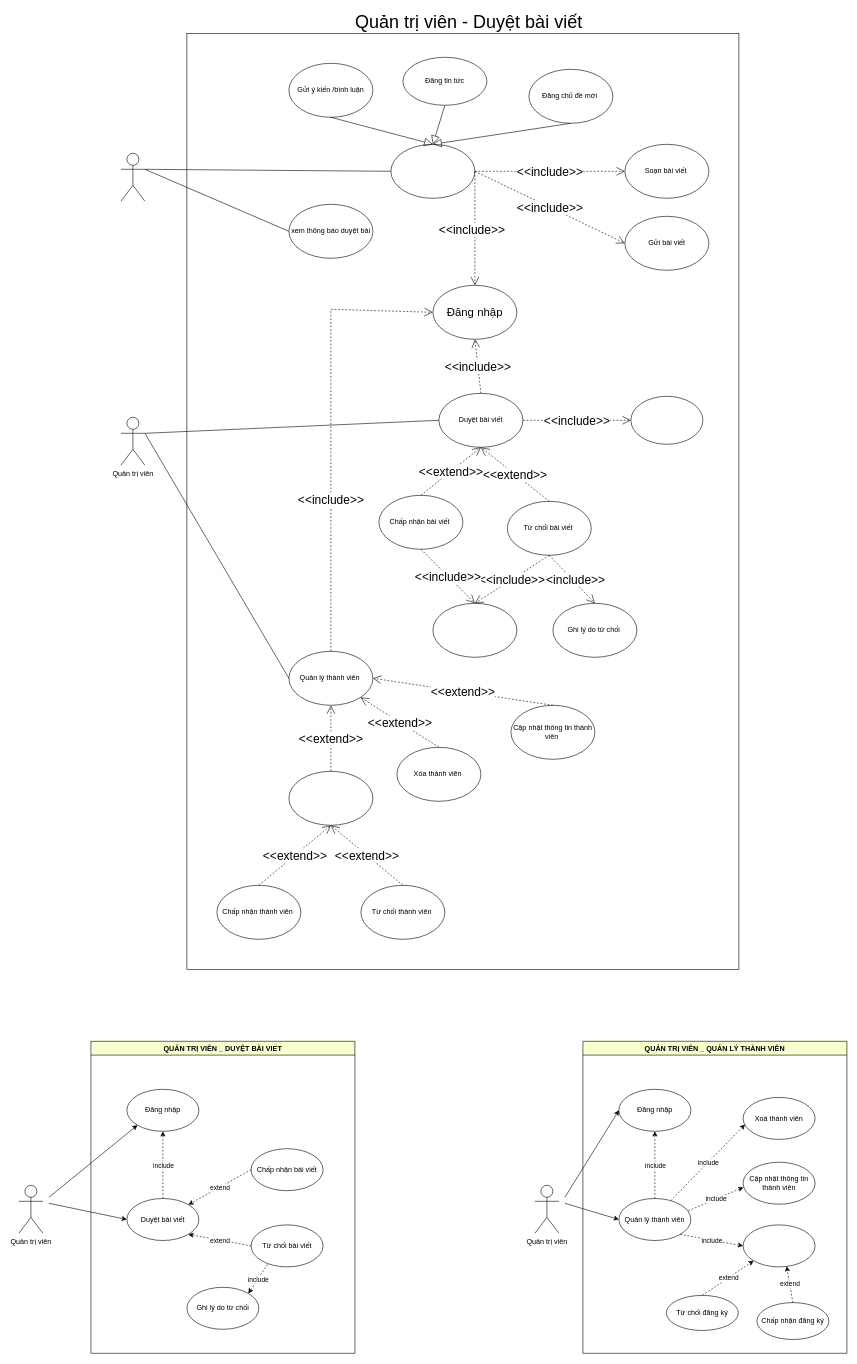
Some shapes in this 857 by 1364 pixel diagram are drawn without their labels. The centre of each missing label's shape, as x and y in pixels:
"Cập nhật trạng thái bài viết" belongs at [474,630].
"Duyệt đăng ký thành viên" belongs at [778,1245].
"Thành viên" belongs at [132,177].
"Xem bài viết chờ duyệt" belongs at [666,420].
"Xét đăng kí thành viên" belongs at [330,798].
"Đăng bài viết" belongs at [432,171].
